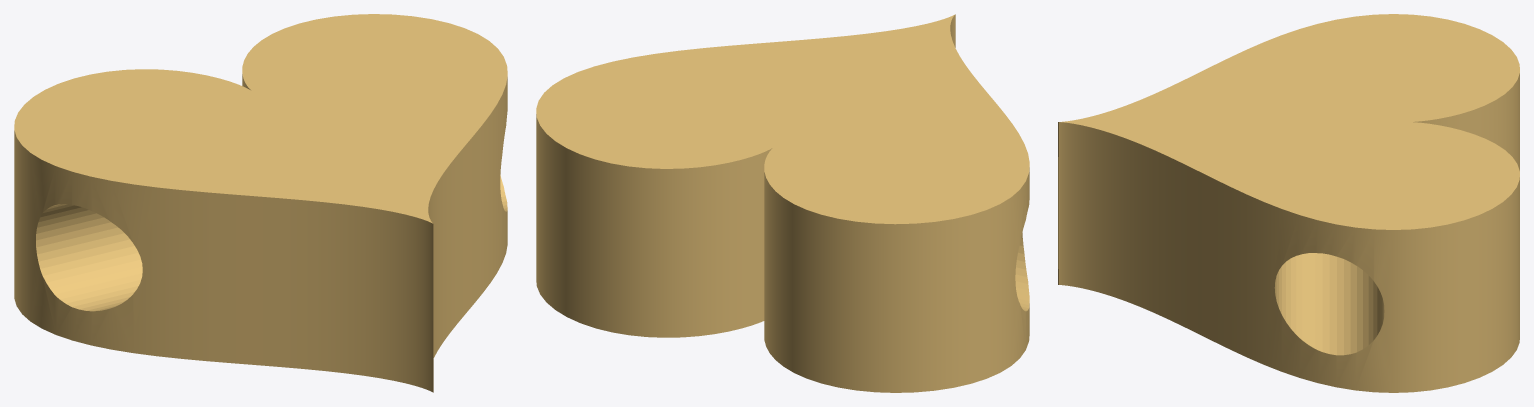
The model's file is spacer-13-gold.glb.
3 renders of one model, left to right at view 1: azimuth 30°, elevation 25°; view 2: azimuth 150°, elevation 25°; view 3: azimuth 270°, elevation 25°, orthographic. The views are drawn at different scales.
Parts seen in each view (by area): view 1: Cast relief; view 2: Cast relief; view 3: Cast relief.
Part boxes in pixels (bbox=[...]): Cast relief: bbox=[14, 14, 507, 392]; Cast relief: bbox=[536, 14, 1029, 392]; Cast relief: bbox=[1058, 14, 1519, 392].
Size of the model in its own units: 0.00512 by 0.0018 by 0.00462.
